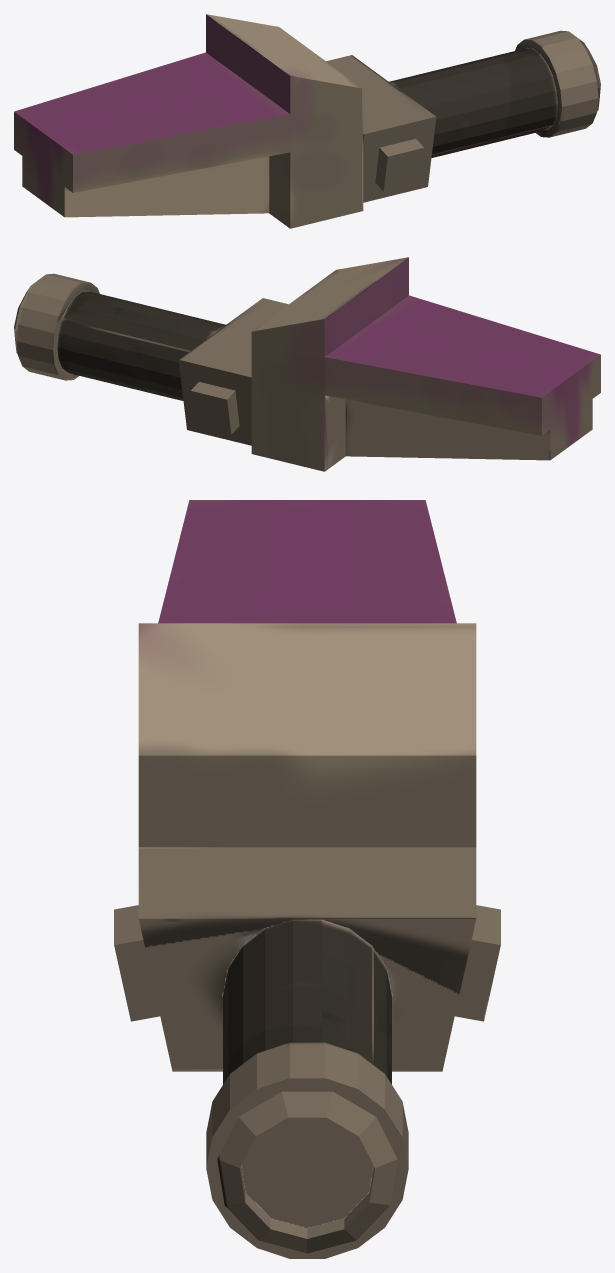
The model's file is LeafBlowerFbx.fbx.
3 views of the same model, one above another, from view 1: azimuth 30°, elevation 25°; view 2: azimuth 150°, elevation 25°; view 3: azimuth 270°, elevation 25° (orthographic). The views are drawn at different scales.
Parts seen in each view (by area): view 1: Cube; view 2: Cube; view 3: Cube.
Part boxes in pixels (x1,y1,x2,y2): Cube: [14, 14, 600, 228]; Cube: [14, 257, 600, 471]; Cube: [114, 500, 500, 1258].
Size of the model in its own units: 3.7 by 1.04 by 1.15.
